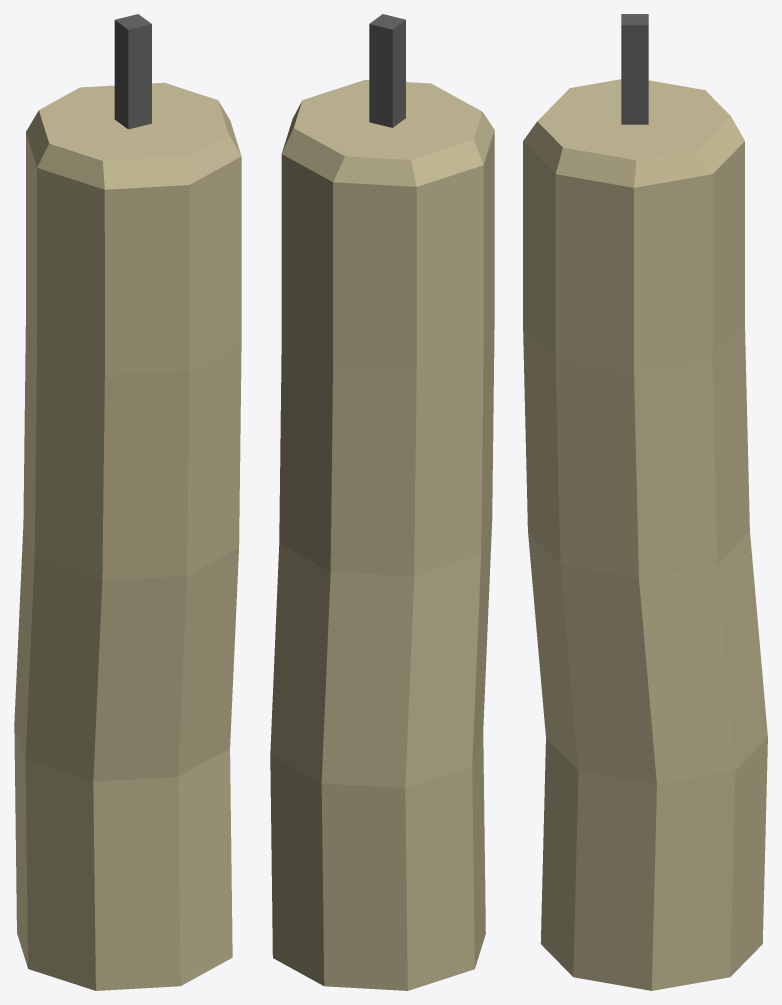
File: swieca_2.fbx
The picture shows the model from 3 angles, left to right: view 1: azimuth 30°, elevation 25°; view 2: azimuth 150°, elevation 25°; view 3: azimuth 270°, elevation 25°; orthographic projection.
Visible parts, largest first — view 1: Cylinder; view 2: Cylinder; view 3: Cylinder.
Part boxes in pixels (x1,y1,x2,y2): Cylinder: [14, 14, 241, 990]; Cylinder: [270, 14, 494, 990]; Cylinder: [523, 14, 767, 990].
Size of the model in its own units: 120 by 551 by 132.
